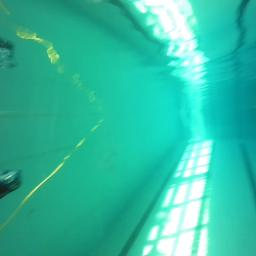Full: (0, 167, 23, 199), (0, 168, 22, 200)
